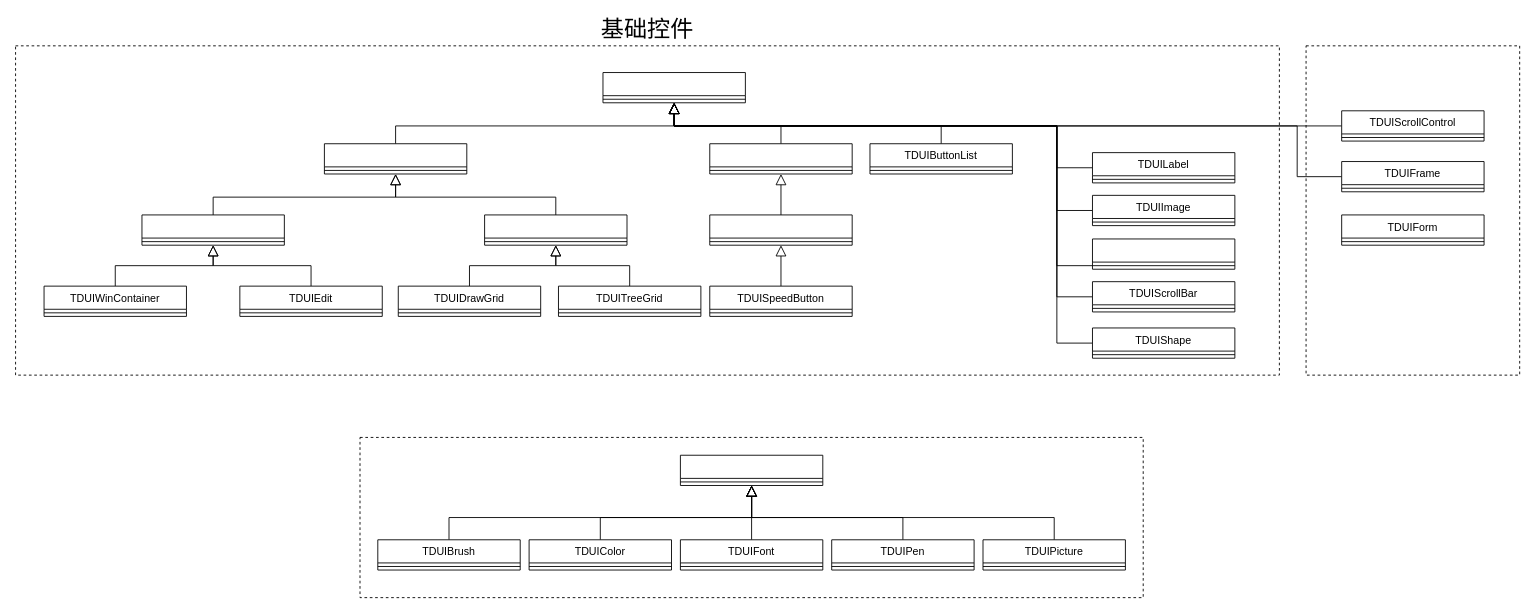
Image size: 1535x613. Some labels were removed from this diagram. Here are the shapes that lost their labels. From the top down, the box of each, then its label:
(602, 72, 745, 103): TDUIBase
(324, 143, 467, 174): TDUIKeyboardBase
(709, 143, 852, 174): TDUIButtonBase
(141, 214, 284, 245): TDUIWinBase
(484, 214, 627, 245): TDUIGridBase
(709, 214, 852, 245): TDUIButton
(1305, 45, 1520, 375): 容器控件
(1092, 238, 1235, 269): TDUIPanel
(680, 454, 823, 485): TDUIGraphicsObject
(359, 437, 1143, 598): 皮肤类
